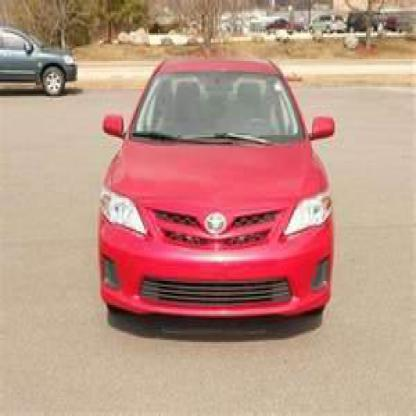Vehicle: (93, 53, 351, 335)
